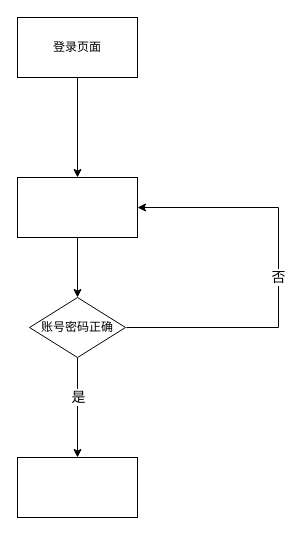
This 304x535 diagram has some shape labels left out. Each missing label, with the box of its shape:
登陆成功: (16, 456, 138, 518)
输入账号密码: (16, 176, 138, 238)
